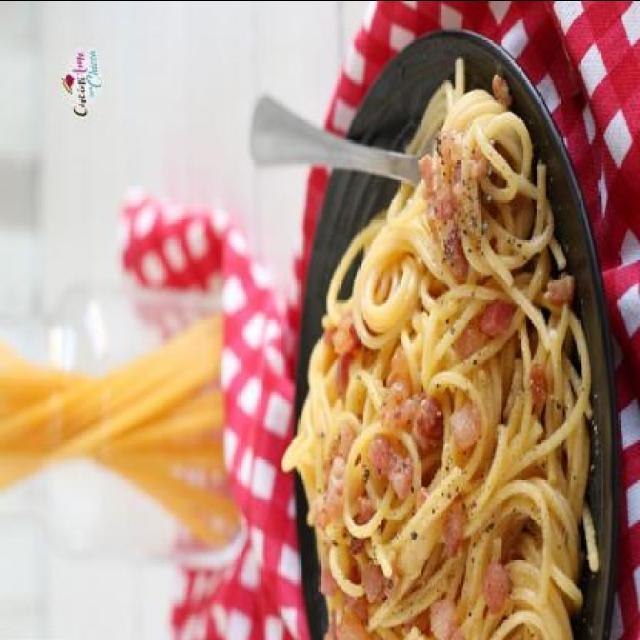Pasta with carbonara sauce: (235, 45, 619, 633)
